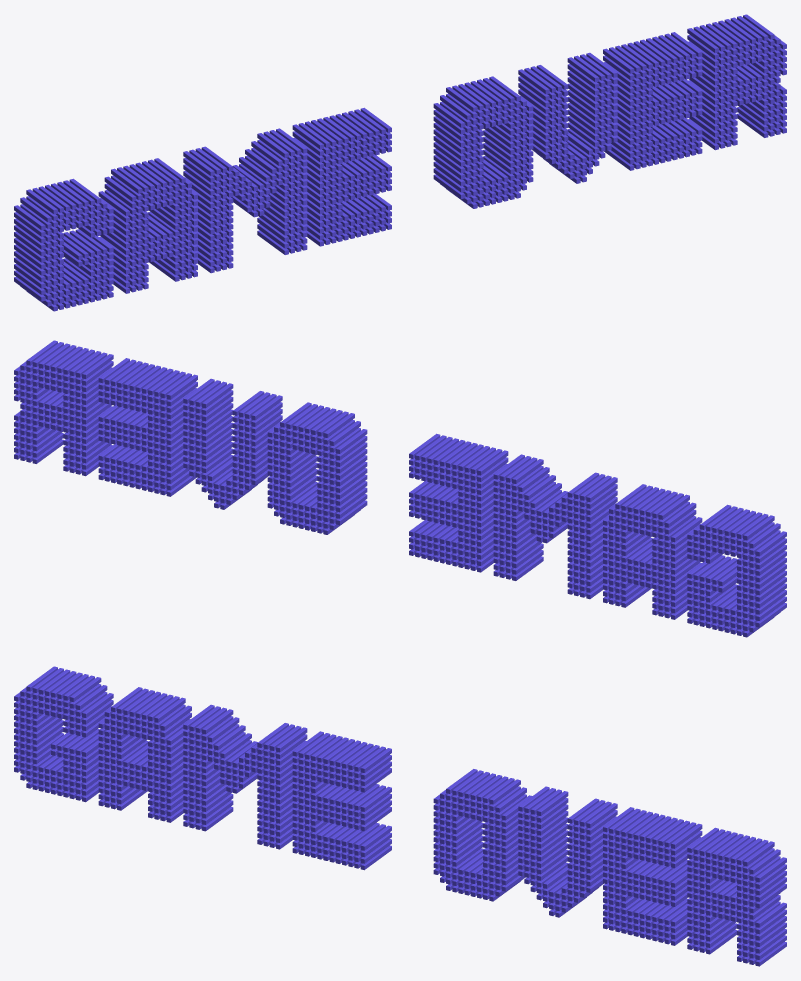
Rendered from GameOver.fbx.
3 renders of one model, top to bottom at view 1: azimuth 30°, elevation 25°; view 2: azimuth 150°, elevation 25°; view 3: azimuth 330°, elevation 25°, orthographic.
Visible parts, largest first — view 1: M, O, G, E_2, E, R, A, V; view 2: M, O, G, E_2, E, R, A, V; view 3: E, M, R, E_2, G, O, A, V.
Part boxes in pixels (<box>): M: <box>183,128,307,273</box>; O: <box>433,76,533,208</box>; G: <box>14,178,113,311</box>; E_2: <box>603,32,702,170</box>; E: <box>292,107,391,246</box>; R: <box>687,14,786,150</box>; A: <box>98,158,197,293</box>; V: <box>518,52,617,183</box>; M: <box>493,454,617,599</box>; O: <box>267,402,367,534</box>; G: <box>687,504,786,637</box>; E_2: <box>98,358,197,496</box>; E: <box>409,433,508,572</box>; R: <box>14,340,113,476</box>; A: <box>603,484,702,619</box>; V: <box>183,378,282,509</box>; E: <box>292,731,391,870</box>; M: <box>183,704,307,849</box>; R: <box>687,827,786,966</box>; E_2: <box>603,807,702,945</box>; G: <box>14,666,113,802</box>; O: <box>433,769,532,901</box>; A: <box>98,687,191,822</box>; V: <box>518,786,617,917</box>.
Bounding box in the file's own units: 1413 × 184 × 90.
